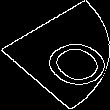O_NW: (9, 21, 101, 89)
